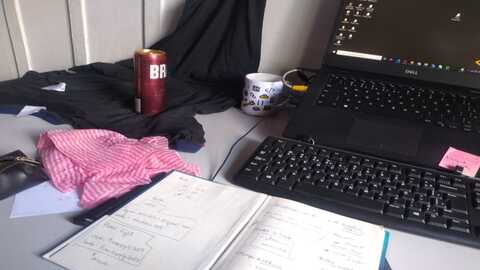duplo_malte: (130, 42, 169, 122)
